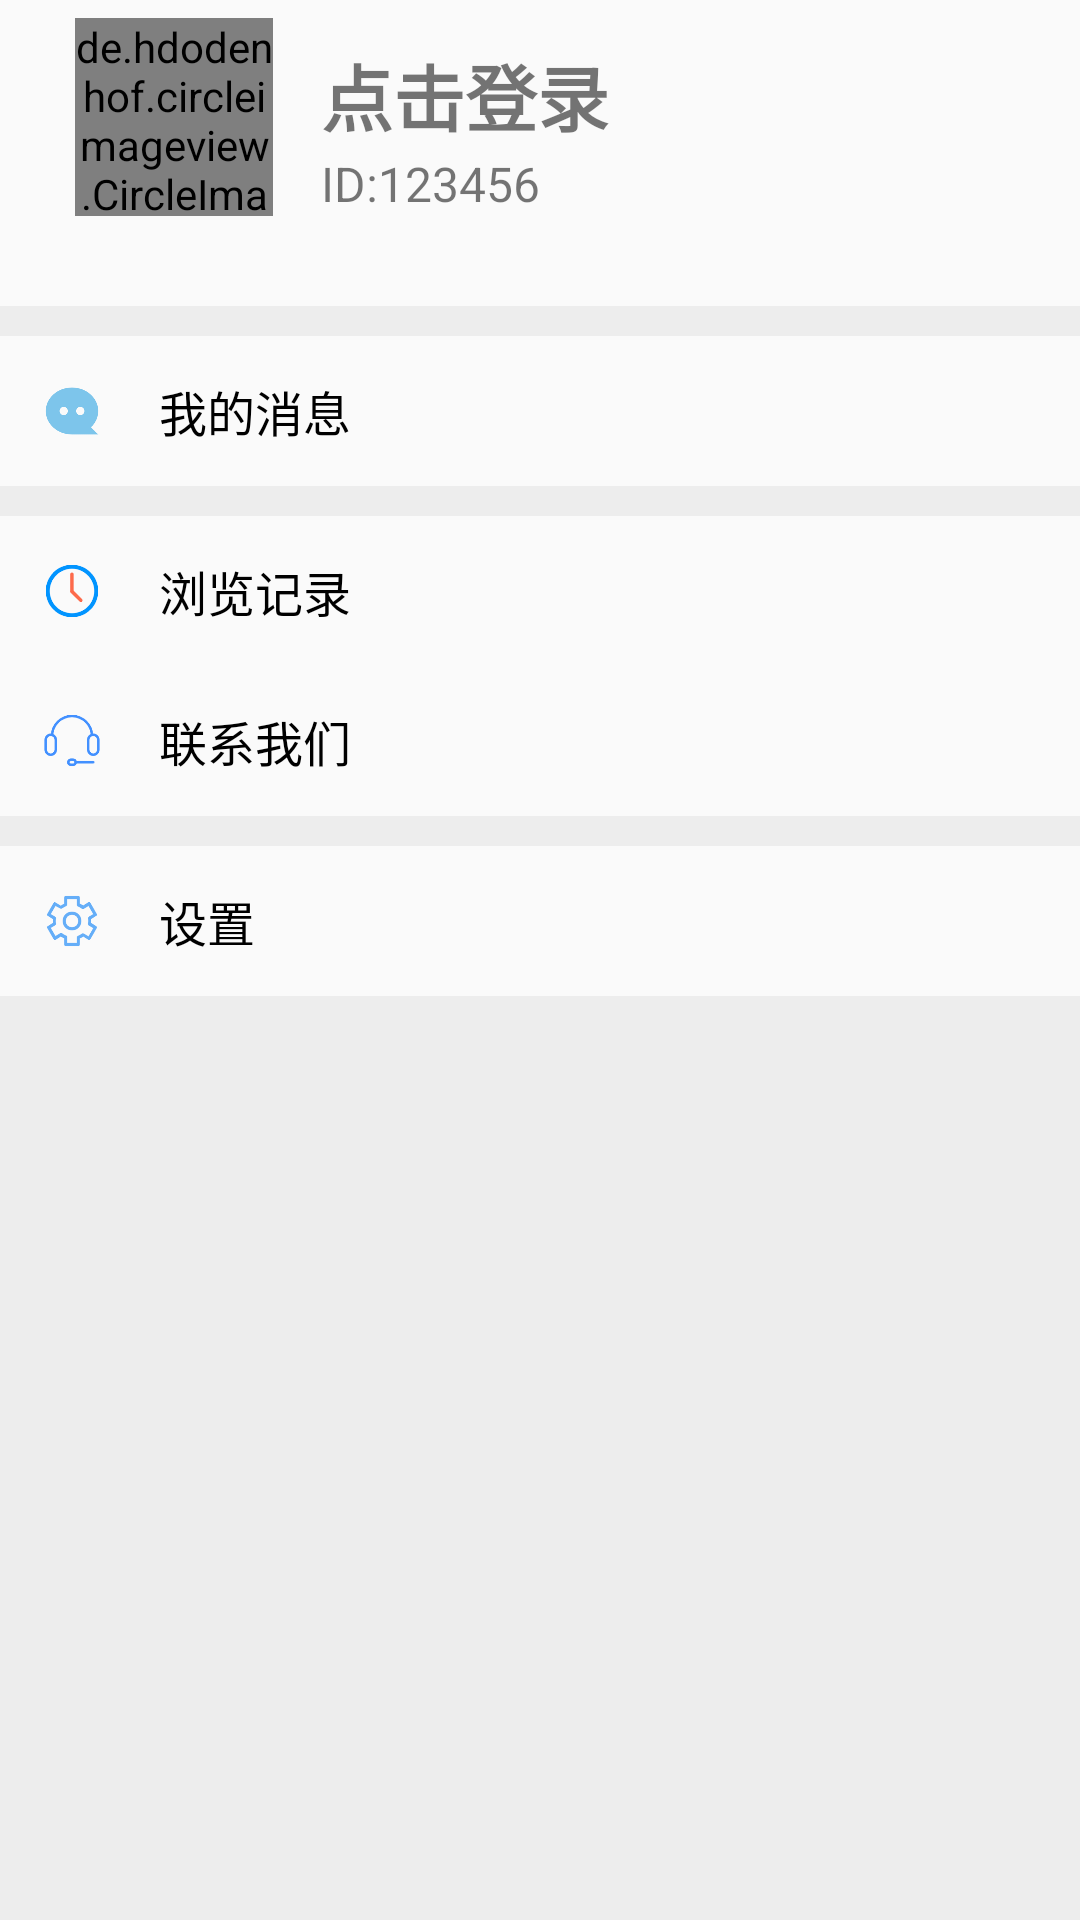

Icon bounding boxes for this 1080px×1920px phone screenshot, format (x1, y1, x2, y2):
browsing history: (46, 565, 98, 617)
customer service: (44, 715, 100, 766)
message: (46, 387, 98, 435)
setting: (47, 896, 97, 946)
